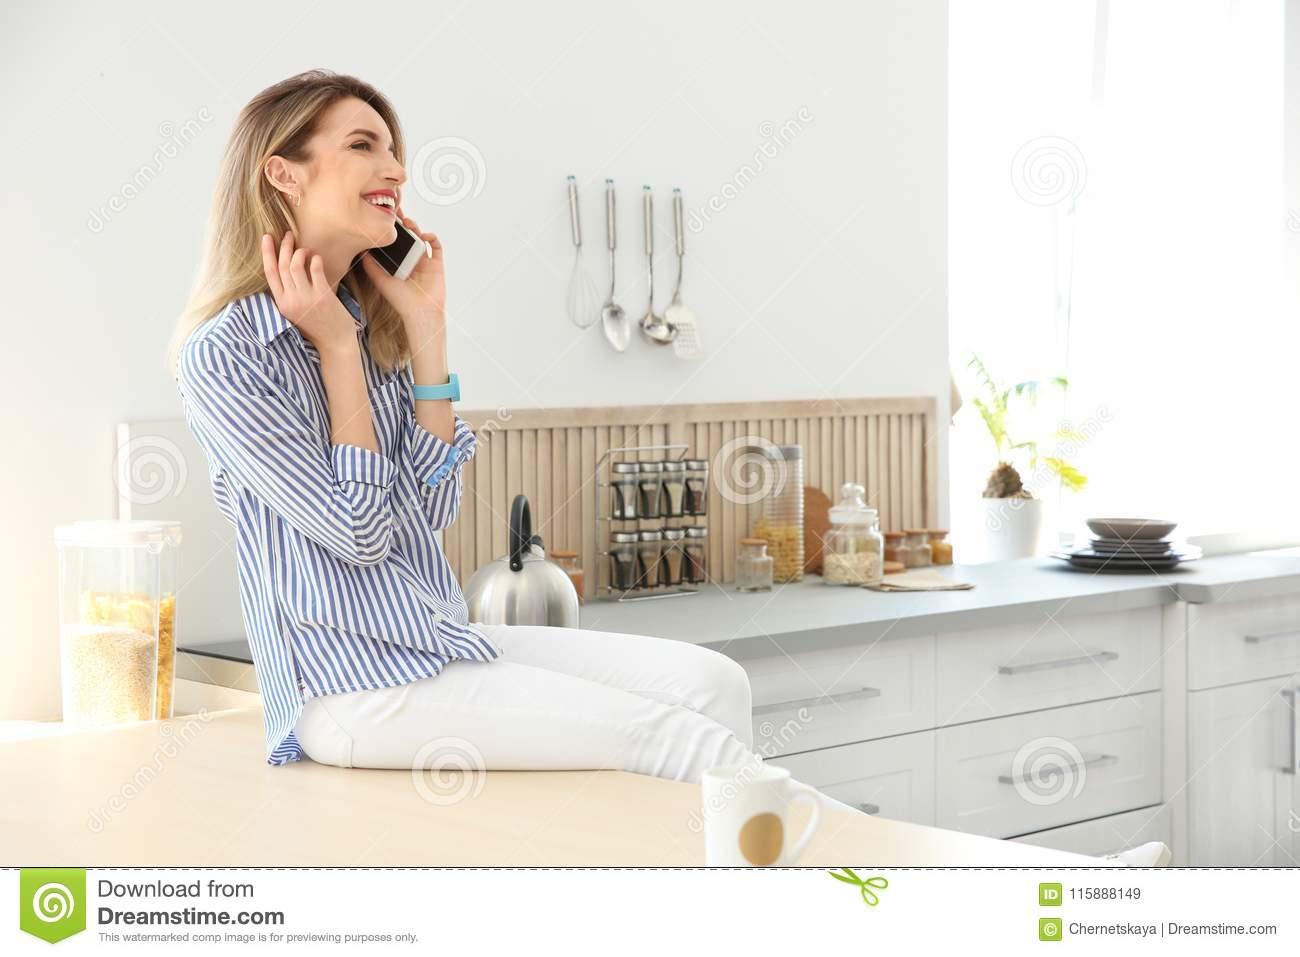phone: (369, 220, 428, 285)
talk: (341, 121, 447, 333)
